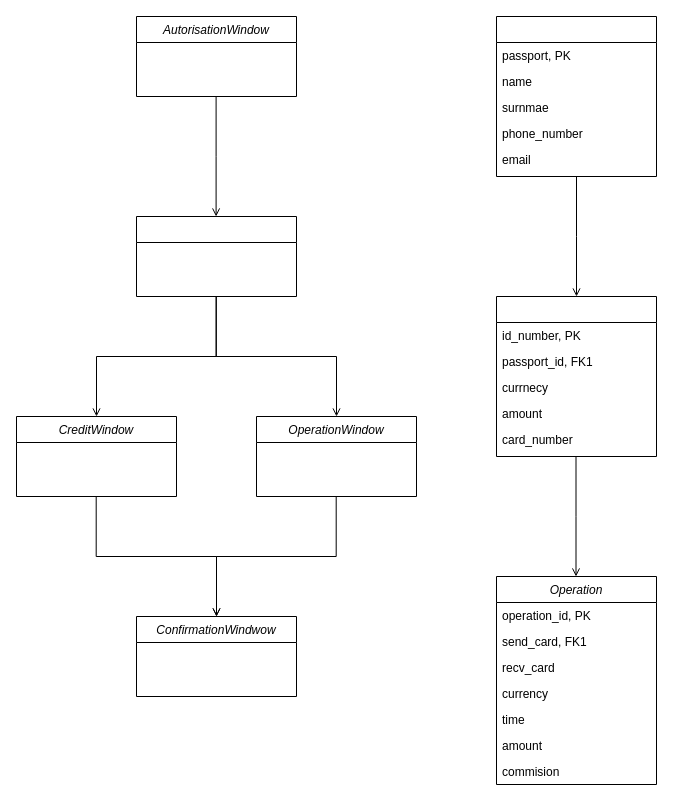
Some shapes in this 673 by 801 pixel diagram are drawn without their labels. Here are the shapes that lost their labels. From the top down, the box of each, then its label:
(496, 16, 656, 176): Client
(136, 216, 296, 296): Mainwindow
(496, 296, 656, 456): Bank_book
